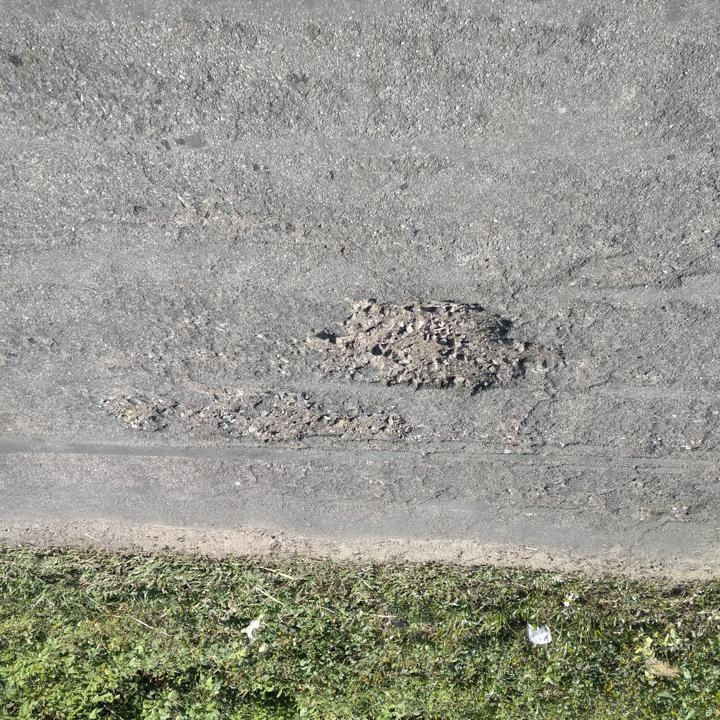pothole: (323, 294, 540, 397), (195, 388, 416, 447), (94, 386, 184, 435)
